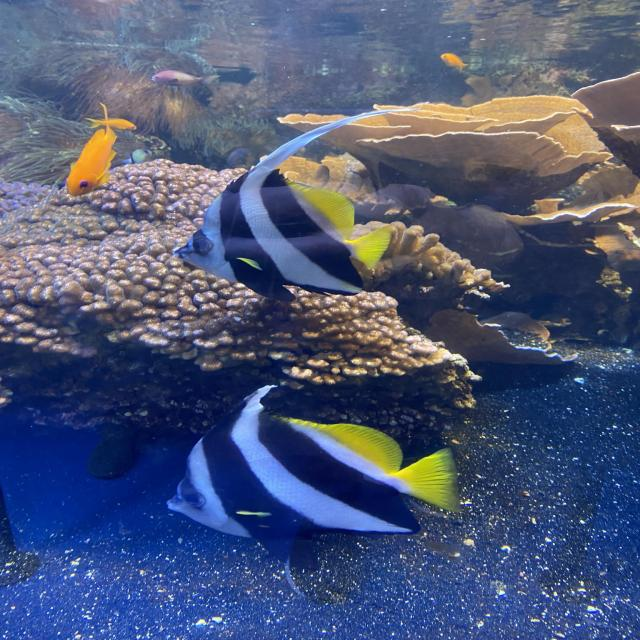fish: (168, 403, 456, 565), (173, 170, 388, 302), (66, 128, 118, 196)
